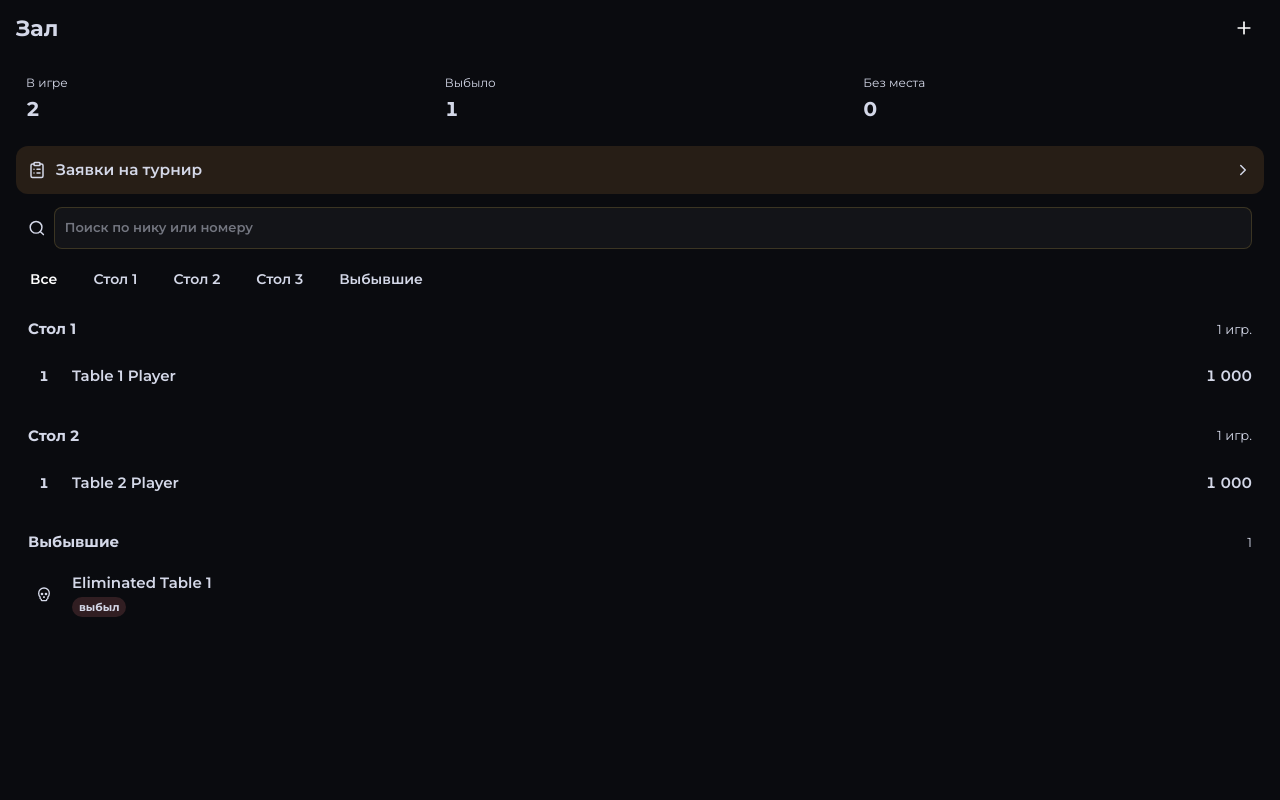
Scenario: TMAPlayersPage › filters players by selected table
The width and height of the screenshot is (1280, 800).
Expected: the text "Table 1 Player" is shown, [72,366,176,385]
Expected: the text "Table 2 Player" is shown, [72,473,179,492]
Click the button "Стол 1" at (115, 279), box [79,262,151,296]
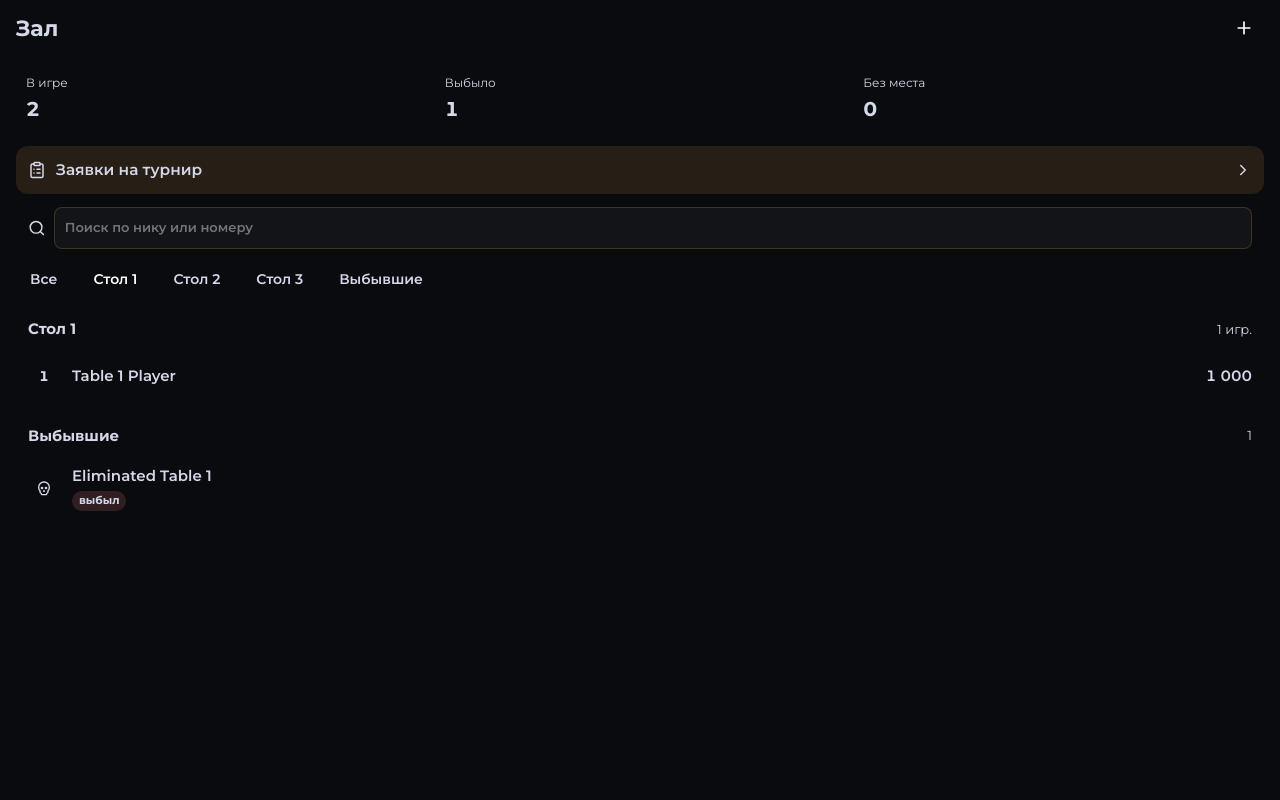
Expected: the text "Table 1 Player" is shown, [72,366,176,385]
Now the button "Table 2 Player" is gone
Click the button "Все" at (44, 279), box [16,262,71,296]
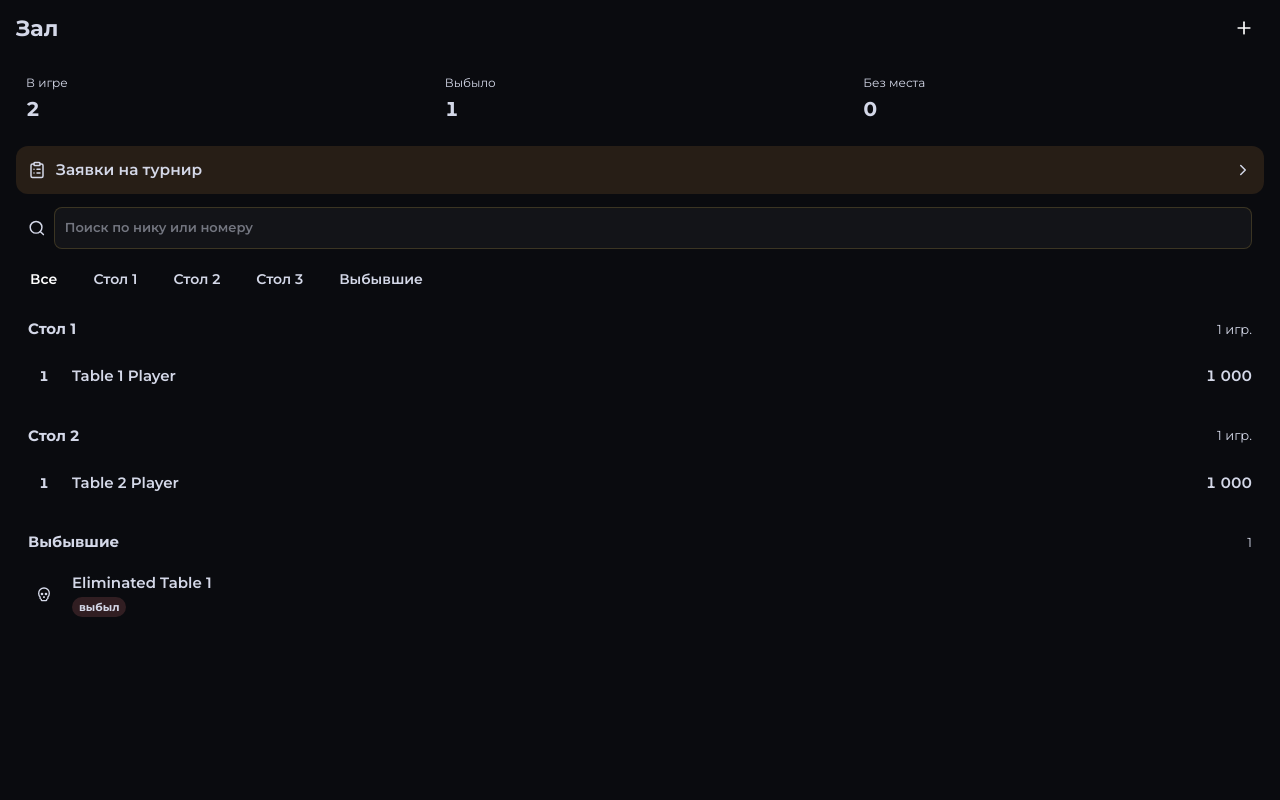
Now the text "Table 2 Player" is shown, box [72,473,179,492]
